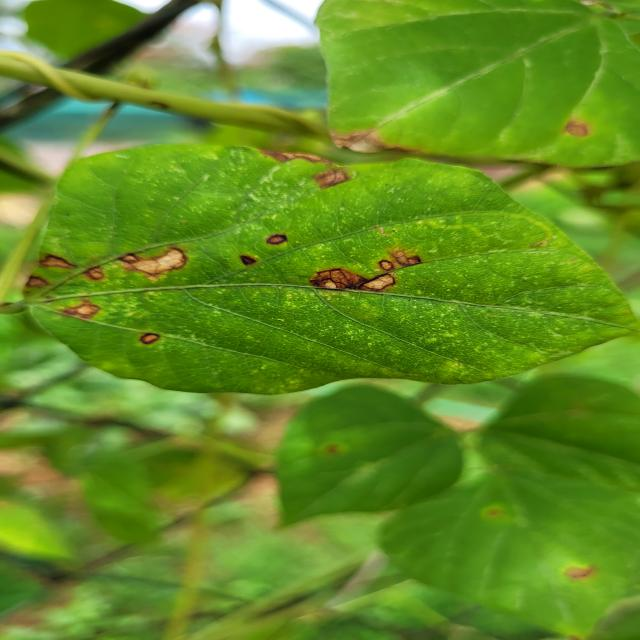Dolicos bean_cercospora leaf spot: (26, 140, 640, 391), (311, 0, 640, 162), (395, 467, 640, 640), (266, 378, 488, 520)
Dolicos bean_healthy: (472, 366, 640, 530)
